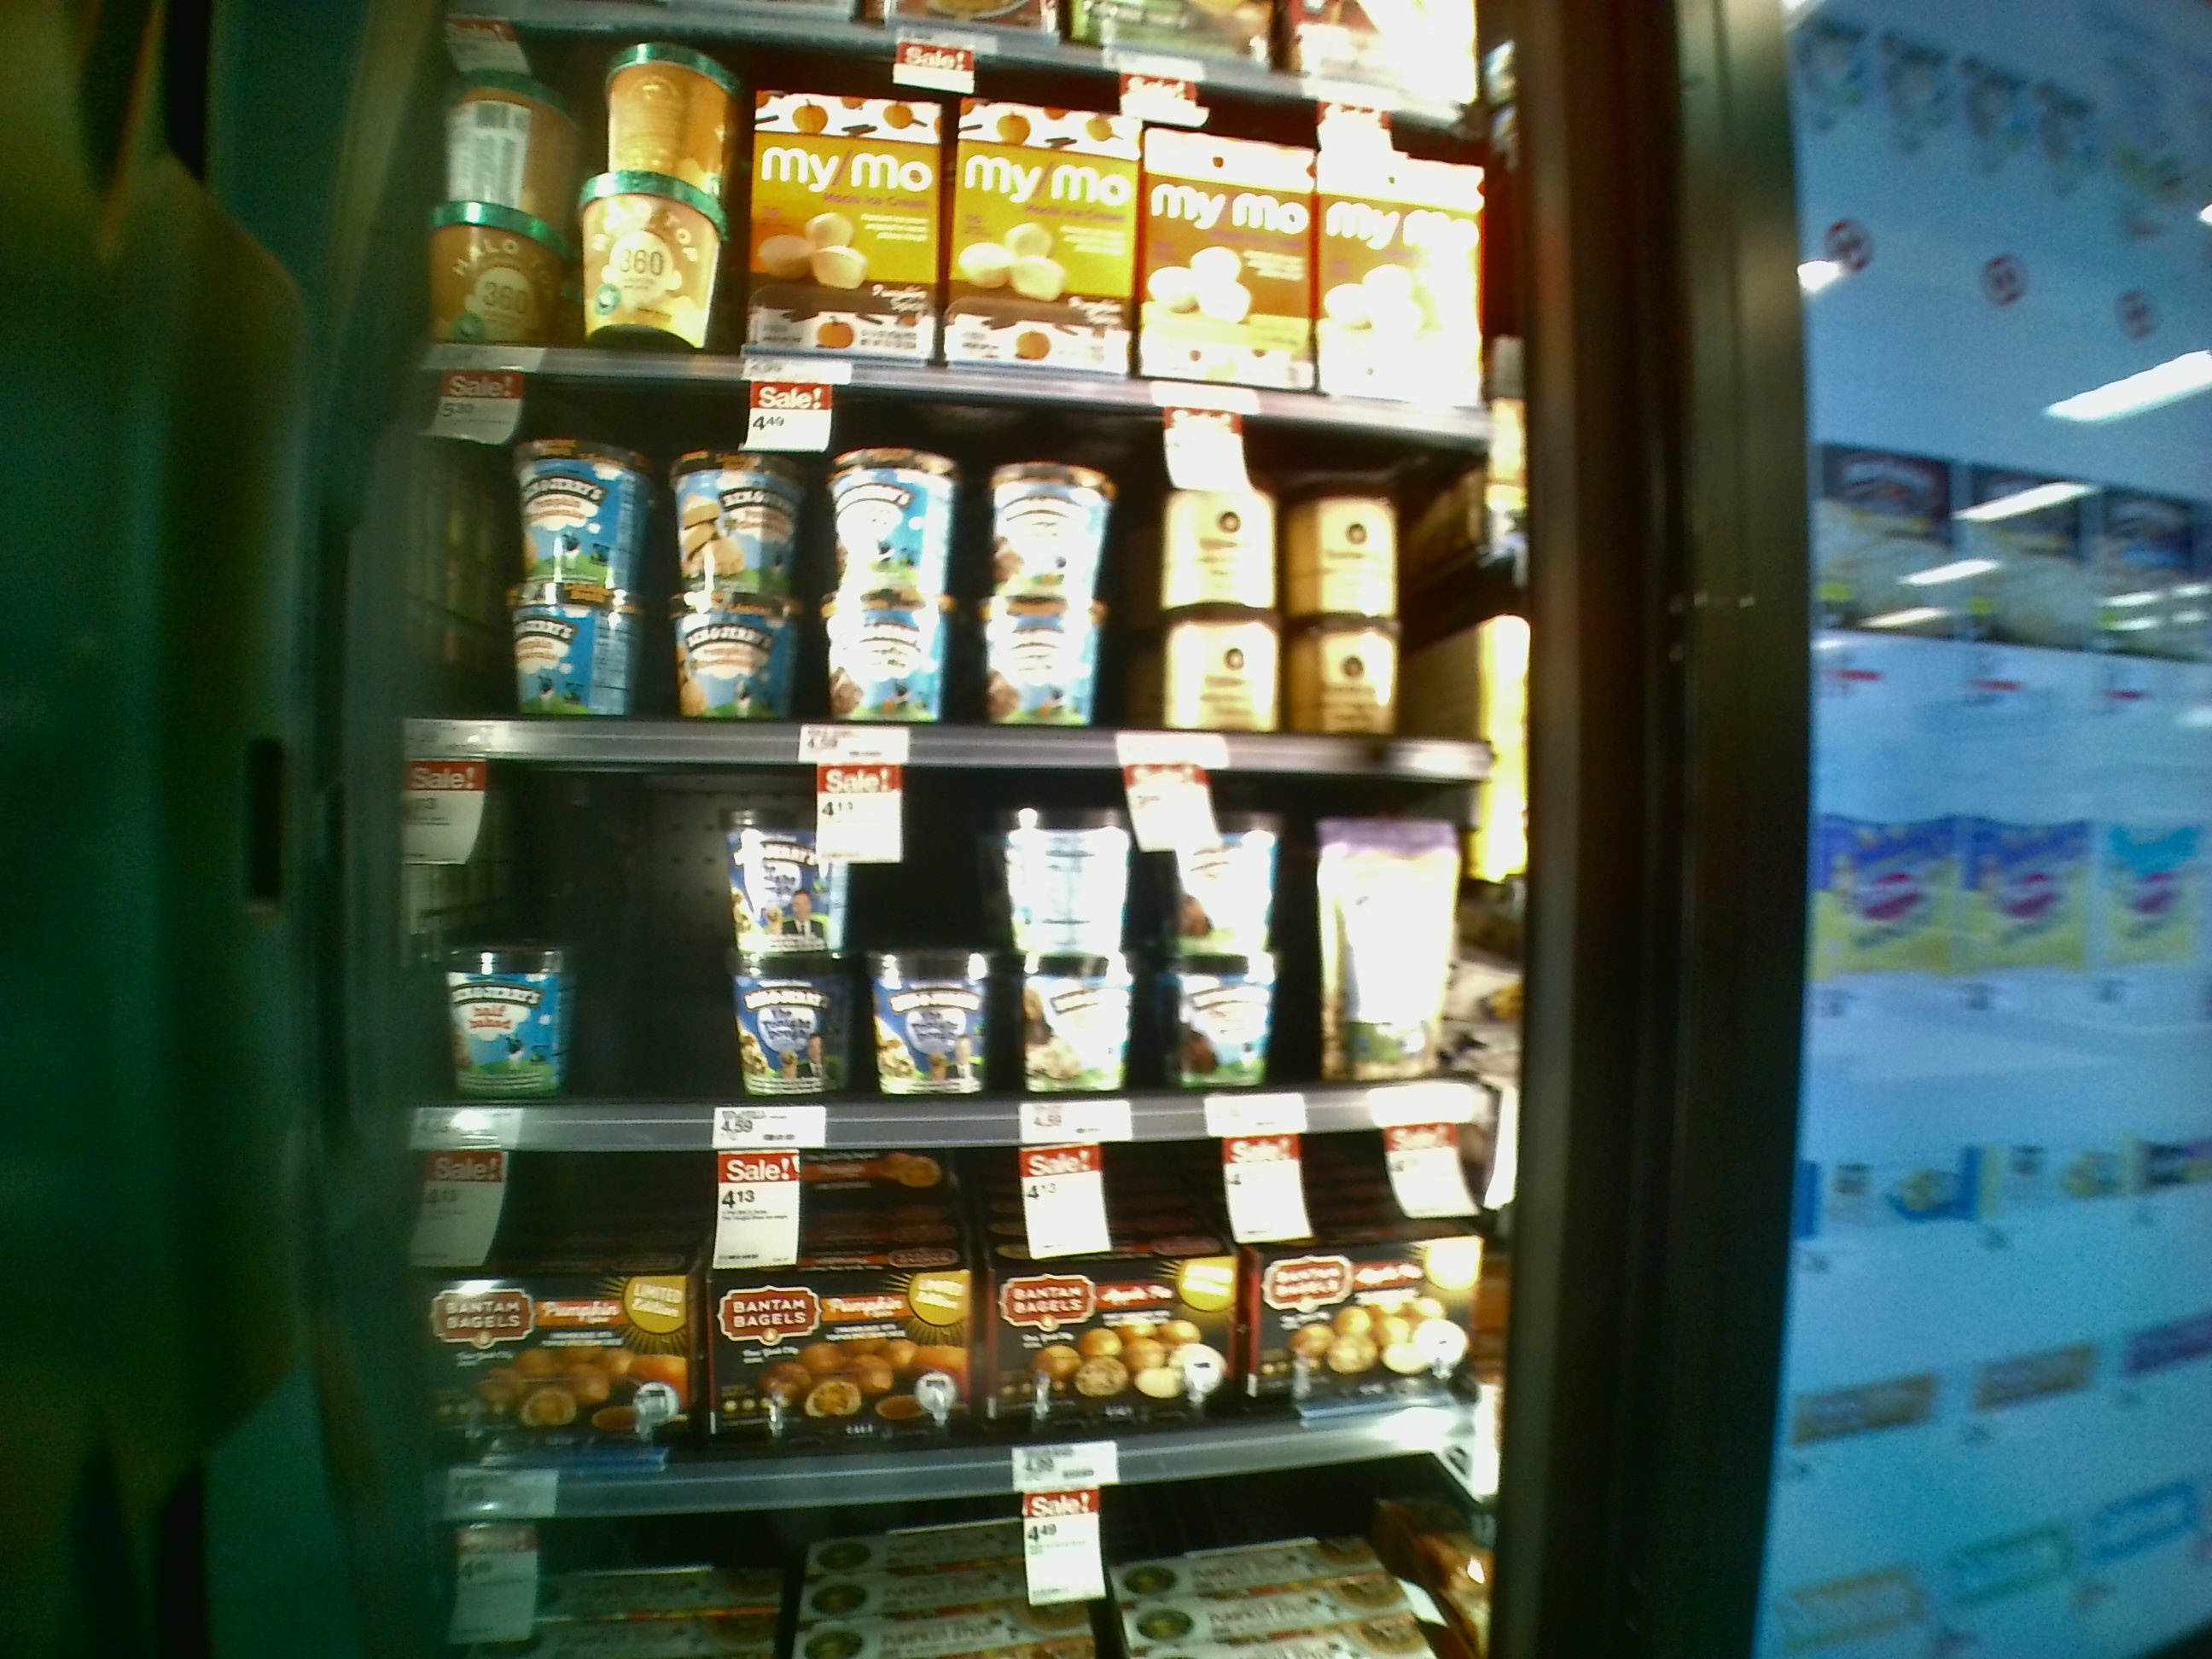shelf: (387, 368, 1514, 788), (392, 741, 1545, 1138), (402, 1143, 1541, 1495)
